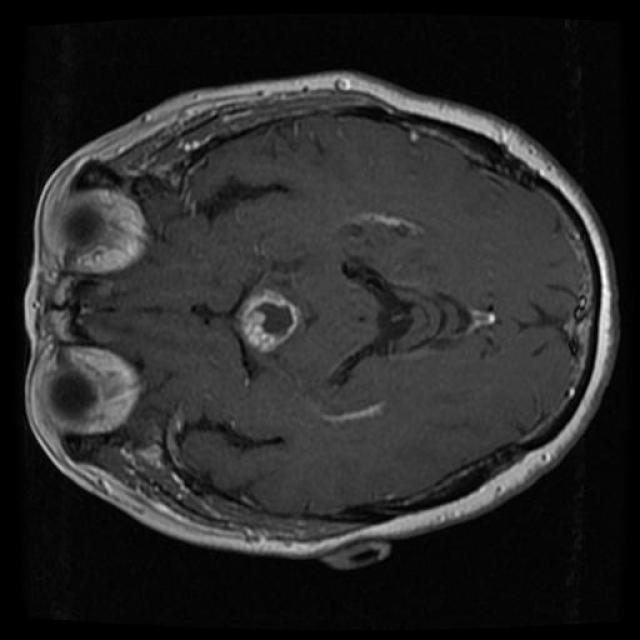Pituitary: (236, 287, 302, 353)
